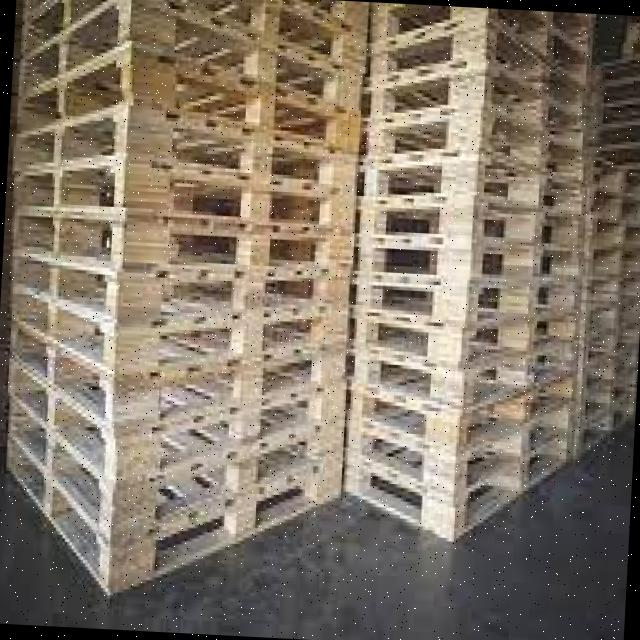Wooden-Pallets: (121, 427, 346, 543), (128, 157, 357, 236), (119, 351, 351, 426), (126, 264, 354, 339), (454, 371, 585, 454), (472, 205, 586, 260)
